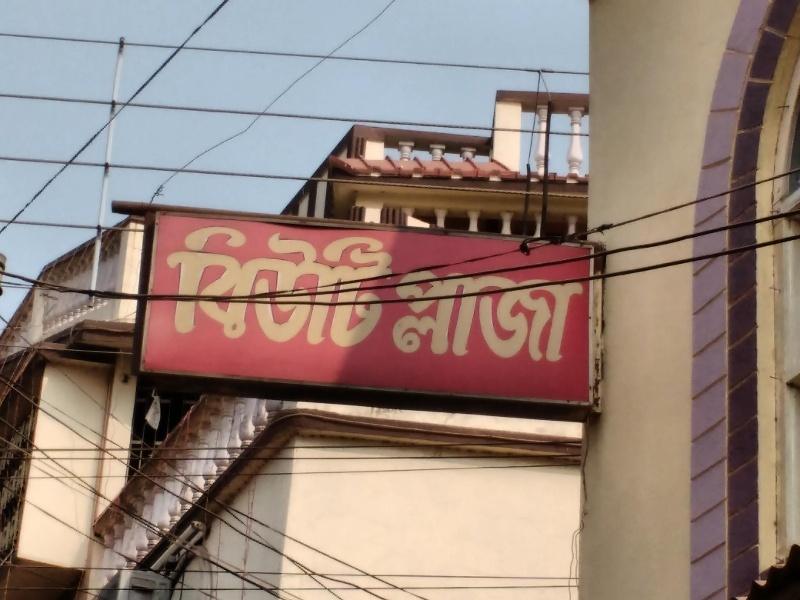text: (177, 219, 192, 354), (193, 219, 208, 354), (209, 219, 224, 354), (225, 219, 240, 354), (241, 219, 256, 354), (257, 219, 272, 354), (273, 219, 288, 354), (289, 219, 304, 354), (305, 219, 320, 354), (321, 219, 336, 354), (337, 219, 352, 354), (353, 219, 368, 354), (369, 219, 384, 354), (385, 219, 400, 354), (401, 265, 416, 364), (417, 265, 432, 364), (433, 265, 448, 364), (449, 265, 464, 364), (465, 265, 480, 364), (481, 265, 496, 364), (497, 265, 512, 364), (513, 265, 528, 364), (529, 265, 544, 364), (545, 265, 560, 364), (561, 265, 576, 364), (577, 265, 588, 364), (170, 219, 176, 354), (401, 219, 406, 354)
